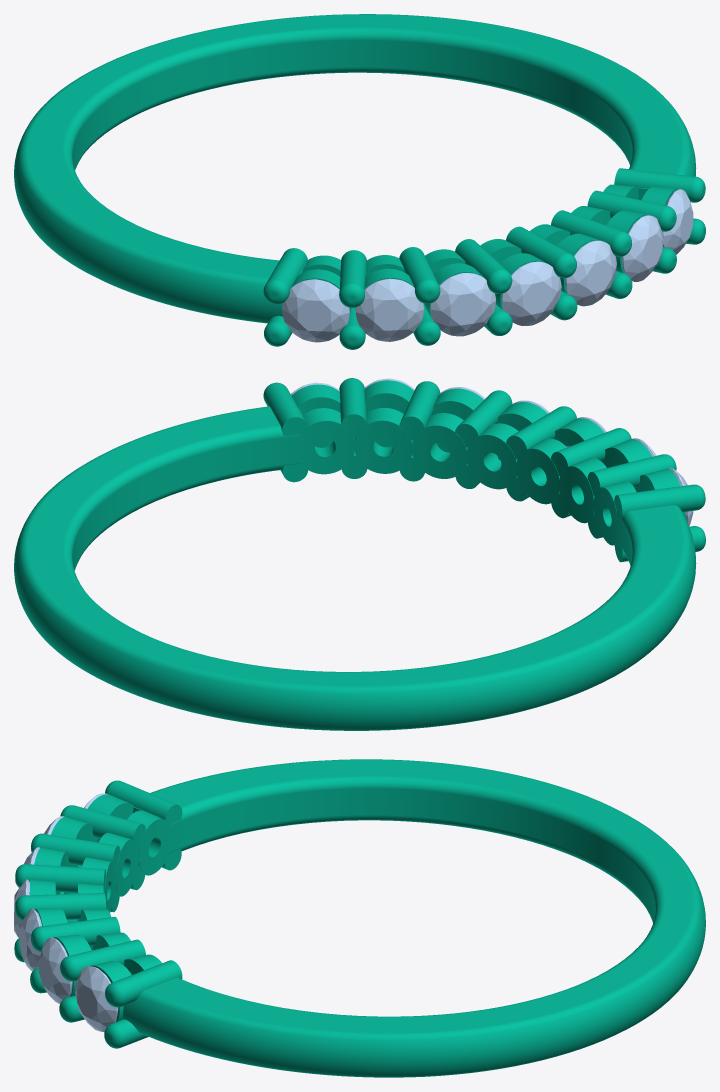
3 views of the same model, one above another, from view 1: azimuth 30°, elevation 25°; view 2: azimuth 150°, elevation 25°; view 3: azimuth 270°, elevation 25° (orthographic).
Parts seen in each view (by area): view 1: VR443(base).3dm, Diamond_Round (×7); view 2: VR443(base).3dm; view 3: VR443(base).3dm, Diamond_Round (×3).
Part boxes in pixels (left/top/right/bottom): VR443(base).3dm: left=14, top=14, right=705, bottom=349; Diamond_Round (×7): left=282, top=189, right=693, bottom=342; VR443(base).3dm: left=14, top=378, right=705, bottom=730; VR443(base).3dm: left=14, top=759, right=705, bottom=1077; Diamond_Round (×3): left=19, top=908, right=118, bottom=1031.
Bounding box in the file's own units: 2.78 × 0.3102 × 2.86.
